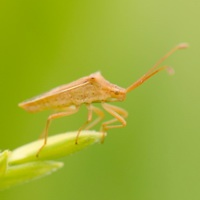insect: (19, 43, 187, 156)
